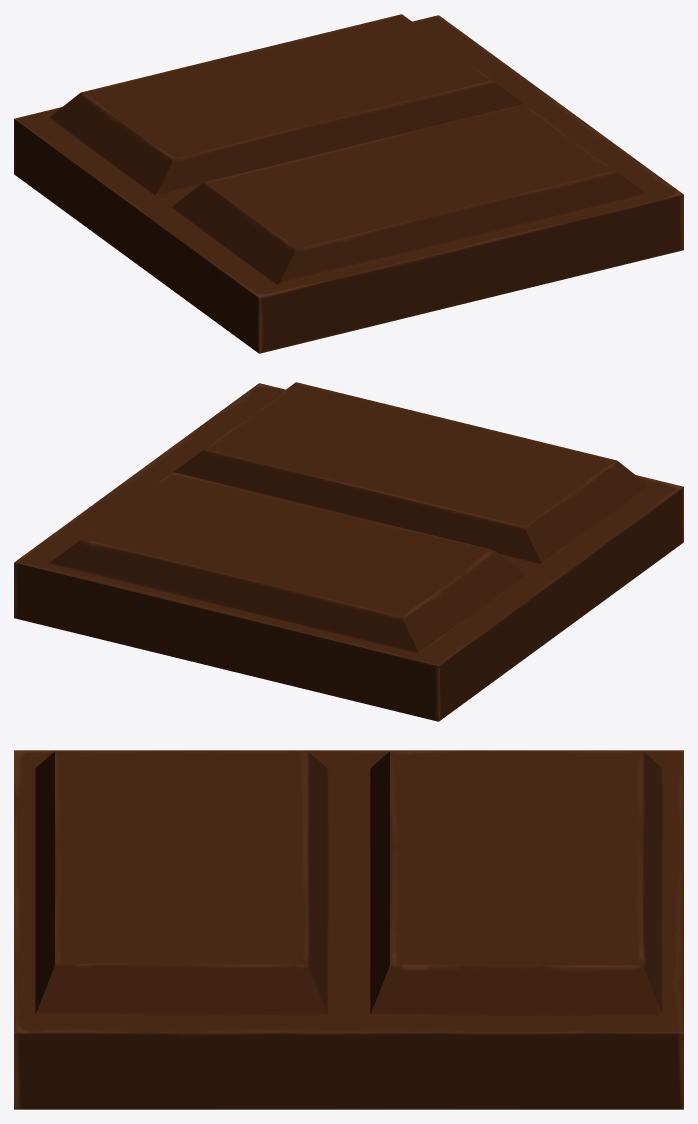
The model's file is chocolate.fbx.
The picture shows the model from 3 angles, top to bottom: view 1: azimuth 30°, elevation 25°; view 2: azimuth 150°, elevation 25°; view 3: azimuth 270°, elevation 25°; orthographic projection. The views are drawn at different scales.
Parts seen in each view (by area): view 1: Box003; view 2: Box003; view 3: Box003.
Boxes of the visible parts, bbox=[...] form: Box003: bbox=[14, 14, 683, 353]; Box003: bbox=[14, 382, 683, 721]; Box003: bbox=[14, 750, 683, 1109].
Bounding box in the file's own units: 20 × 3.6 × 20.
1 material, 1 textured.
